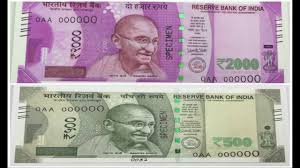twoThousand: (36, 11, 271, 75)
